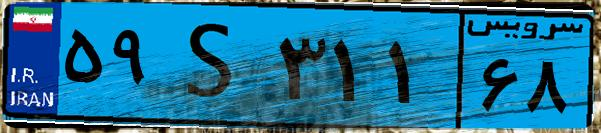1: (385, 28, 445, 110), (330, 28, 385, 110)
3: (270, 28, 330, 110)
5: (57, 26, 110, 100)
6: (475, 38, 525, 113)
8: (525, 38, 570, 115)
9: (110, 28, 158, 98)
S: (158, 12, 270, 120)
